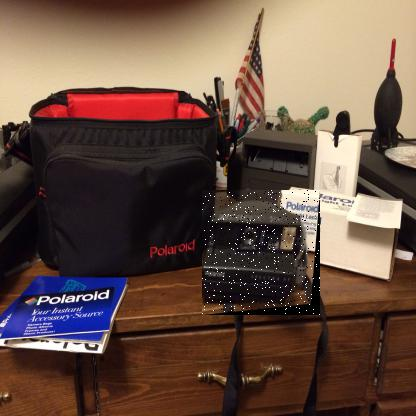Camera: (203, 191, 322, 317)
